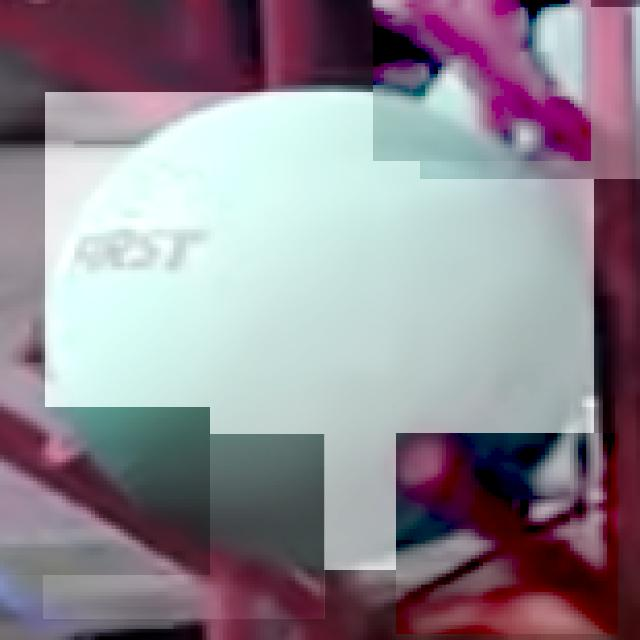Algae: (45, 92, 594, 570), (420, 7, 640, 179)
Reef: (44, 434, 326, 619), (396, 433, 618, 634), (0, 407, 210, 575), (373, 0, 591, 161)
